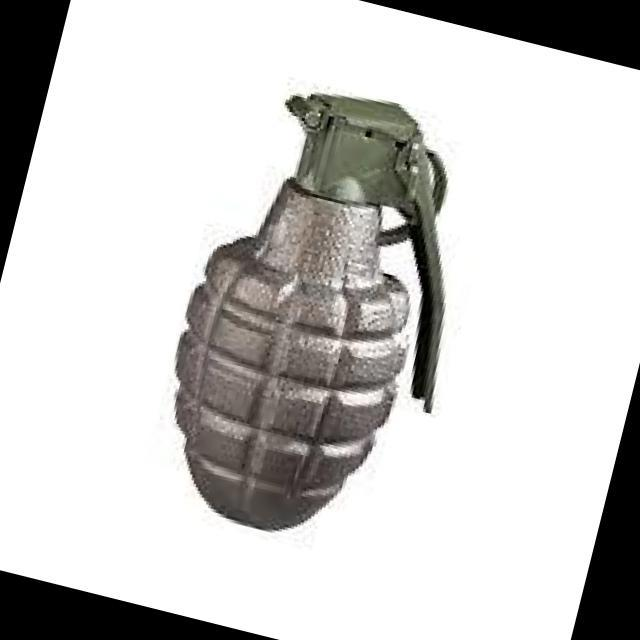grenade: (123, 59, 506, 566)
